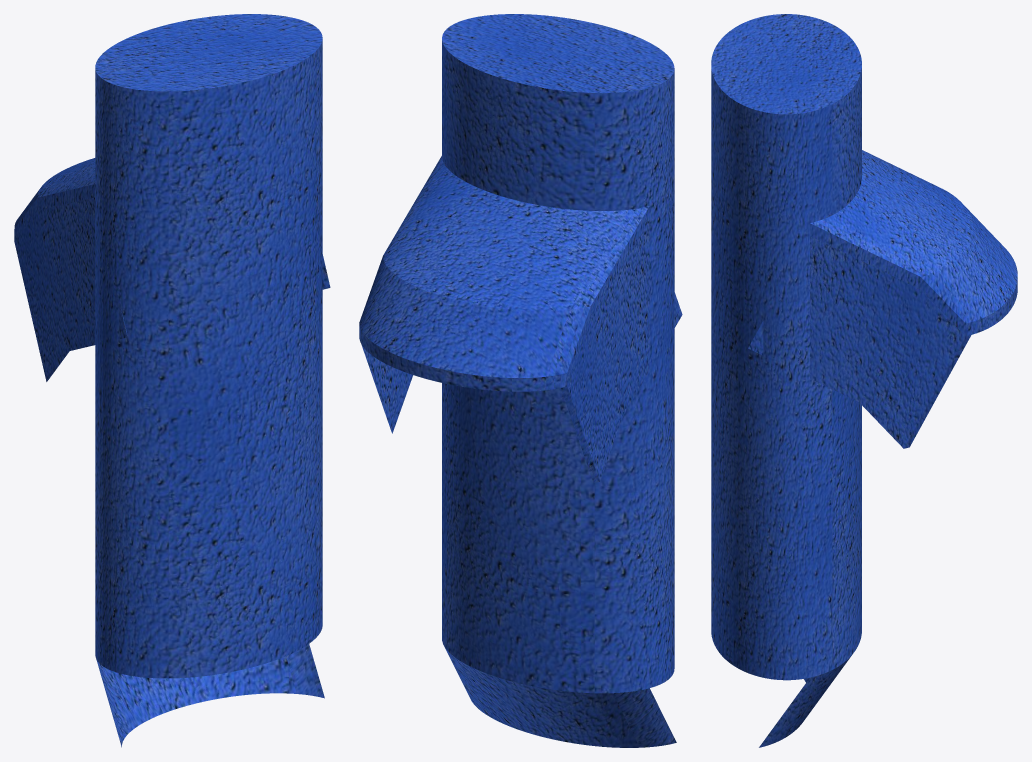
The model's file is water-pipe.obj.
The picture shows the model from 3 angles, left to right: view 1: azimuth 30°, elevation 25°; view 2: azimuth 150°, elevation 25°; view 3: azimuth 270°, elevation 25°; orthographic projection. The views are drawn at different scales.
Visible parts, largest first — view 1: Cylinder; view 2: Cylinder; view 3: Cylinder.
Boxes of the visible parts, <box> form: Cylinder: <box>14,14,330,747</box>; Cylinder: <box>359,14,682,747</box>; Cylinder: <box>711,14,1017,747</box>.
Size of the model in its own units: 1.54 by 4.54 by 1.99.
